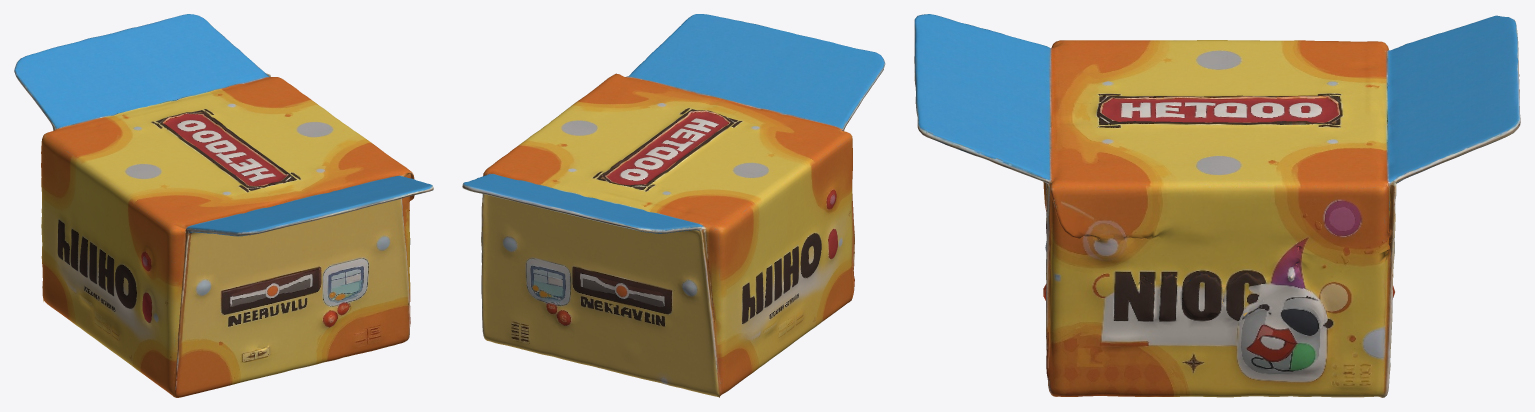
3 renders of one model, left to right at view 1: azimuth 30°, elevation 25°; view 2: azimuth 150°, elevation 25°; view 3: azimuth 270°, elevation 25°, orthographic. The views are drawn at different scales.
Visible parts, largest first — view 1: tripo_node_286d95bc-37cd-4fe5-99a5-ee491448199e; view 2: tripo_node_286d95bc-37cd-4fe5-99a5-ee491448199e; view 3: tripo_node_286d95bc-37cd-4fe5-99a5-ee491448199e.
Part boxes in pixels (left/top/right/bottom): tripo_node_286d95bc-37cd-4fe5-99a5-ee491448199e: left=14, top=14, right=433, bottom=397; tripo_node_286d95bc-37cd-4fe5-99a5-ee491448199e: left=462, top=14, right=885, bottom=397; tripo_node_286d95bc-37cd-4fe5-99a5-ee491448199e: left=914, top=14, right=1520, bottom=397.
Bounding box in the file's own units: 0.603 × 0.4676 × 0.9985.
1 material, 1 textured.
